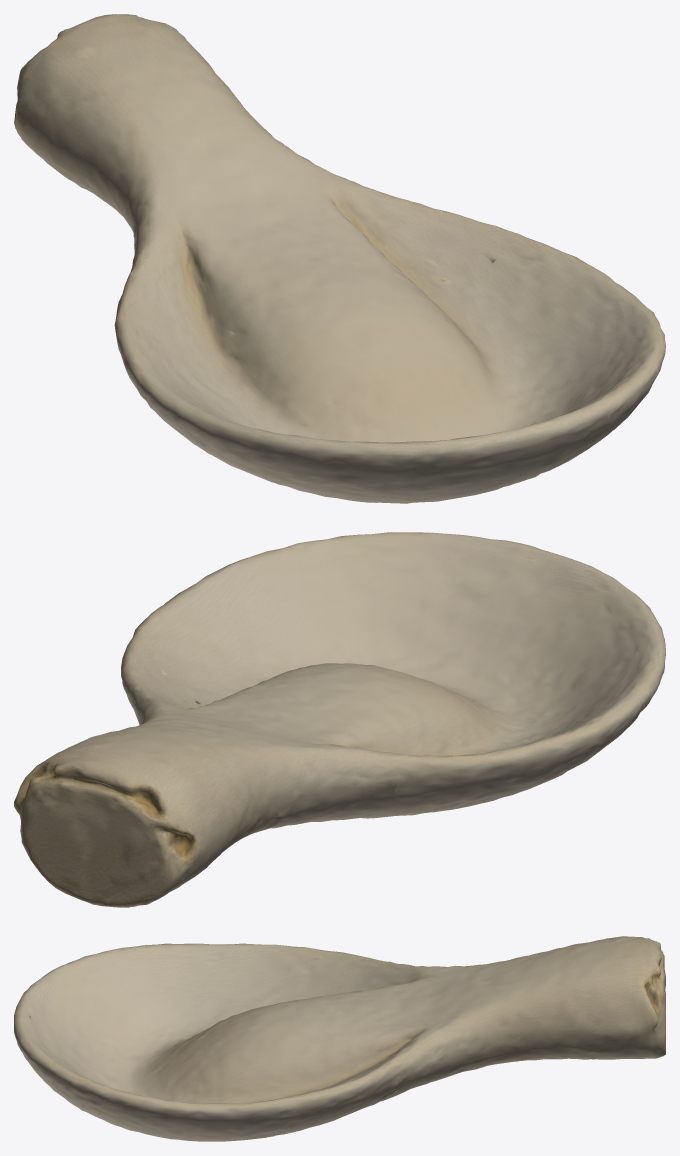
The model's file is tunge.glb.
3 views of the same model, one above another, from view 1: azimuth 30°, elevation 25°; view 2: azimuth 150°, elevation 25°; view 3: azimuth 270°, elevation 25° (orthographic). The views are drawn at different scales.
Parts seen in each view (by area): view 1: tripo_node_b85fe751-30ad-4cb2-8dd9-66b8bc94cf86; view 2: tripo_node_b85fe751-30ad-4cb2-8dd9-66b8bc94cf86; view 3: tripo_node_b85fe751-30ad-4cb2-8dd9-66b8bc94cf86.
Part boxes in pixels (x1=…): tripo_node_b85fe751-30ad-4cb2-8dd9-66b8bc94cf86: x1=14, y1=14, x2=665, y2=503; tripo_node_b85fe751-30ad-4cb2-8dd9-66b8bc94cf86: x1=14, y1=532, x2=665, y2=907; tripo_node_b85fe751-30ad-4cb2-8dd9-66b8bc94cf86: x1=14, y1=936, x2=665, y2=1141.
Bounding box in the file's own units: 0.6035 × 0.2793 × 0.998.
Materials: 1 (1 with a texture image).
